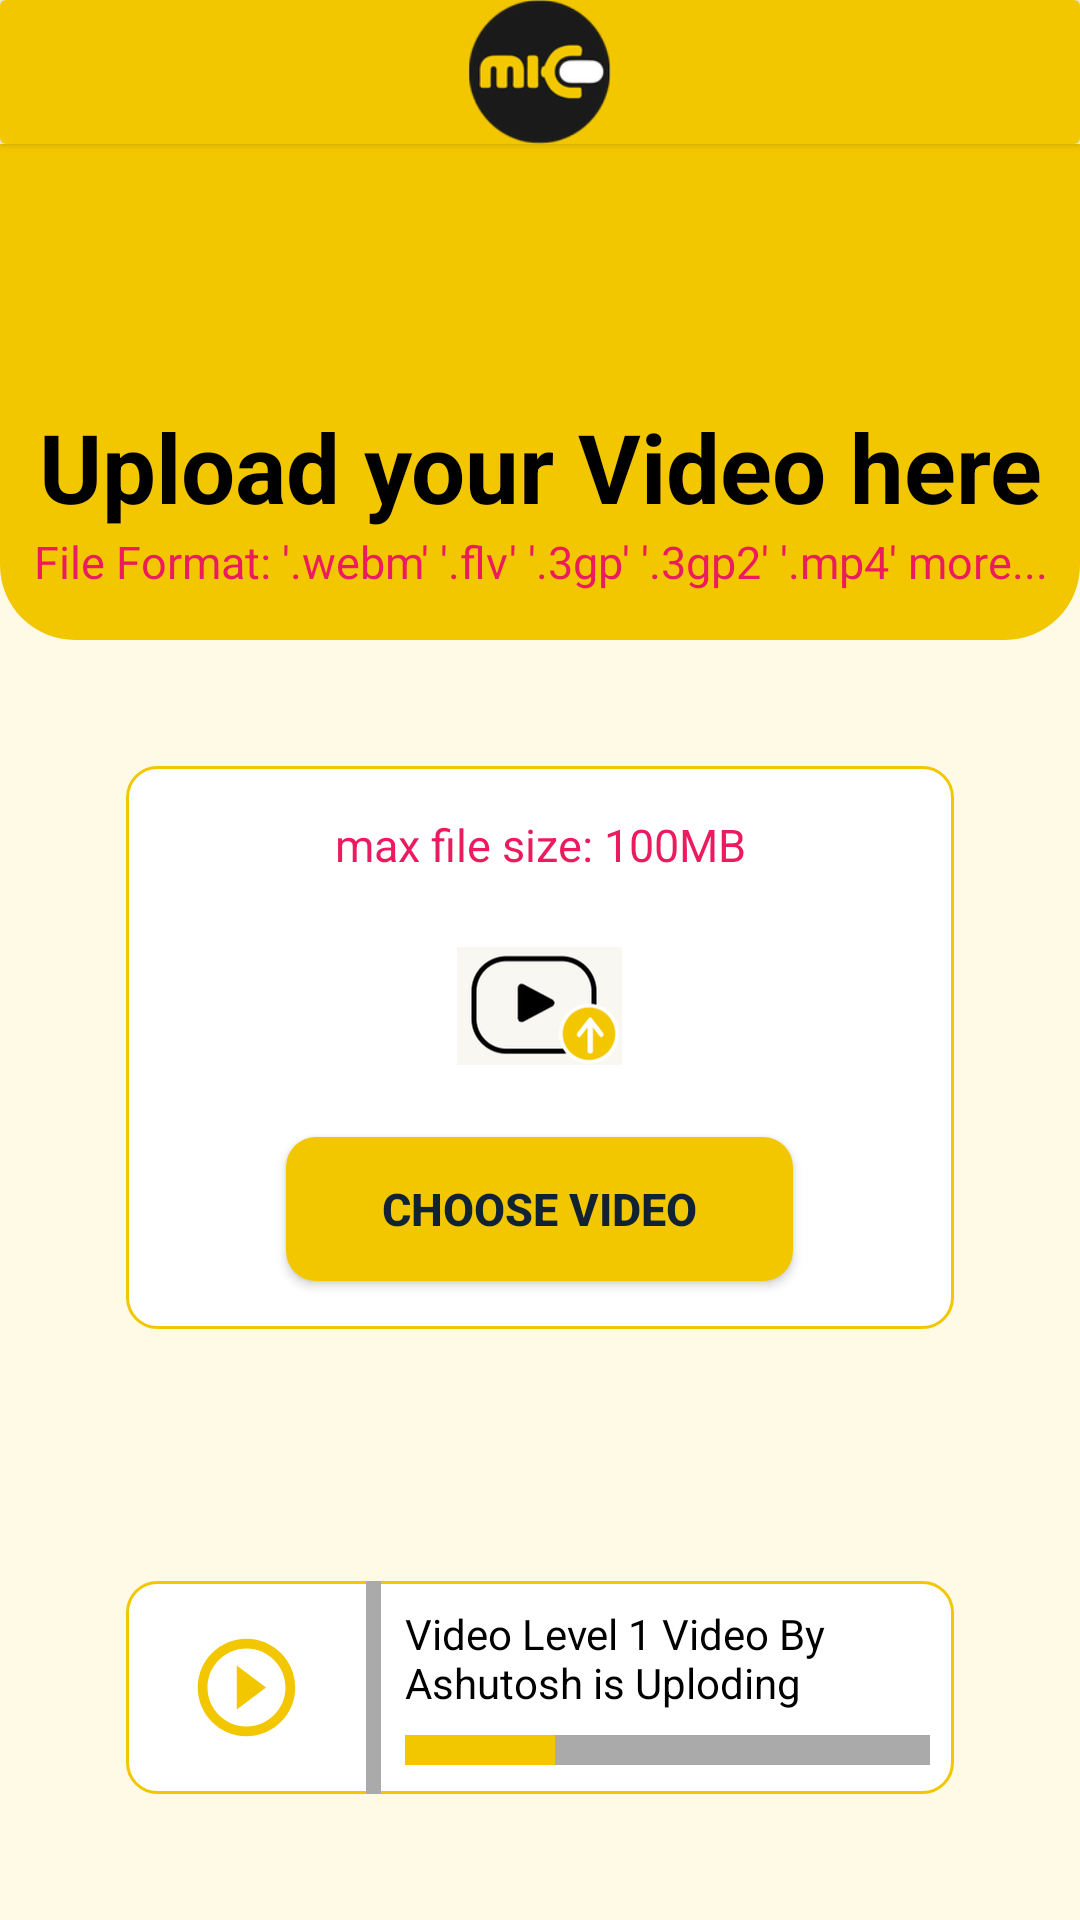

Icon click points for this 1080×1920 phone screenshot, format (x,y):
play: (539,1006)
play circle: (246,1687)
